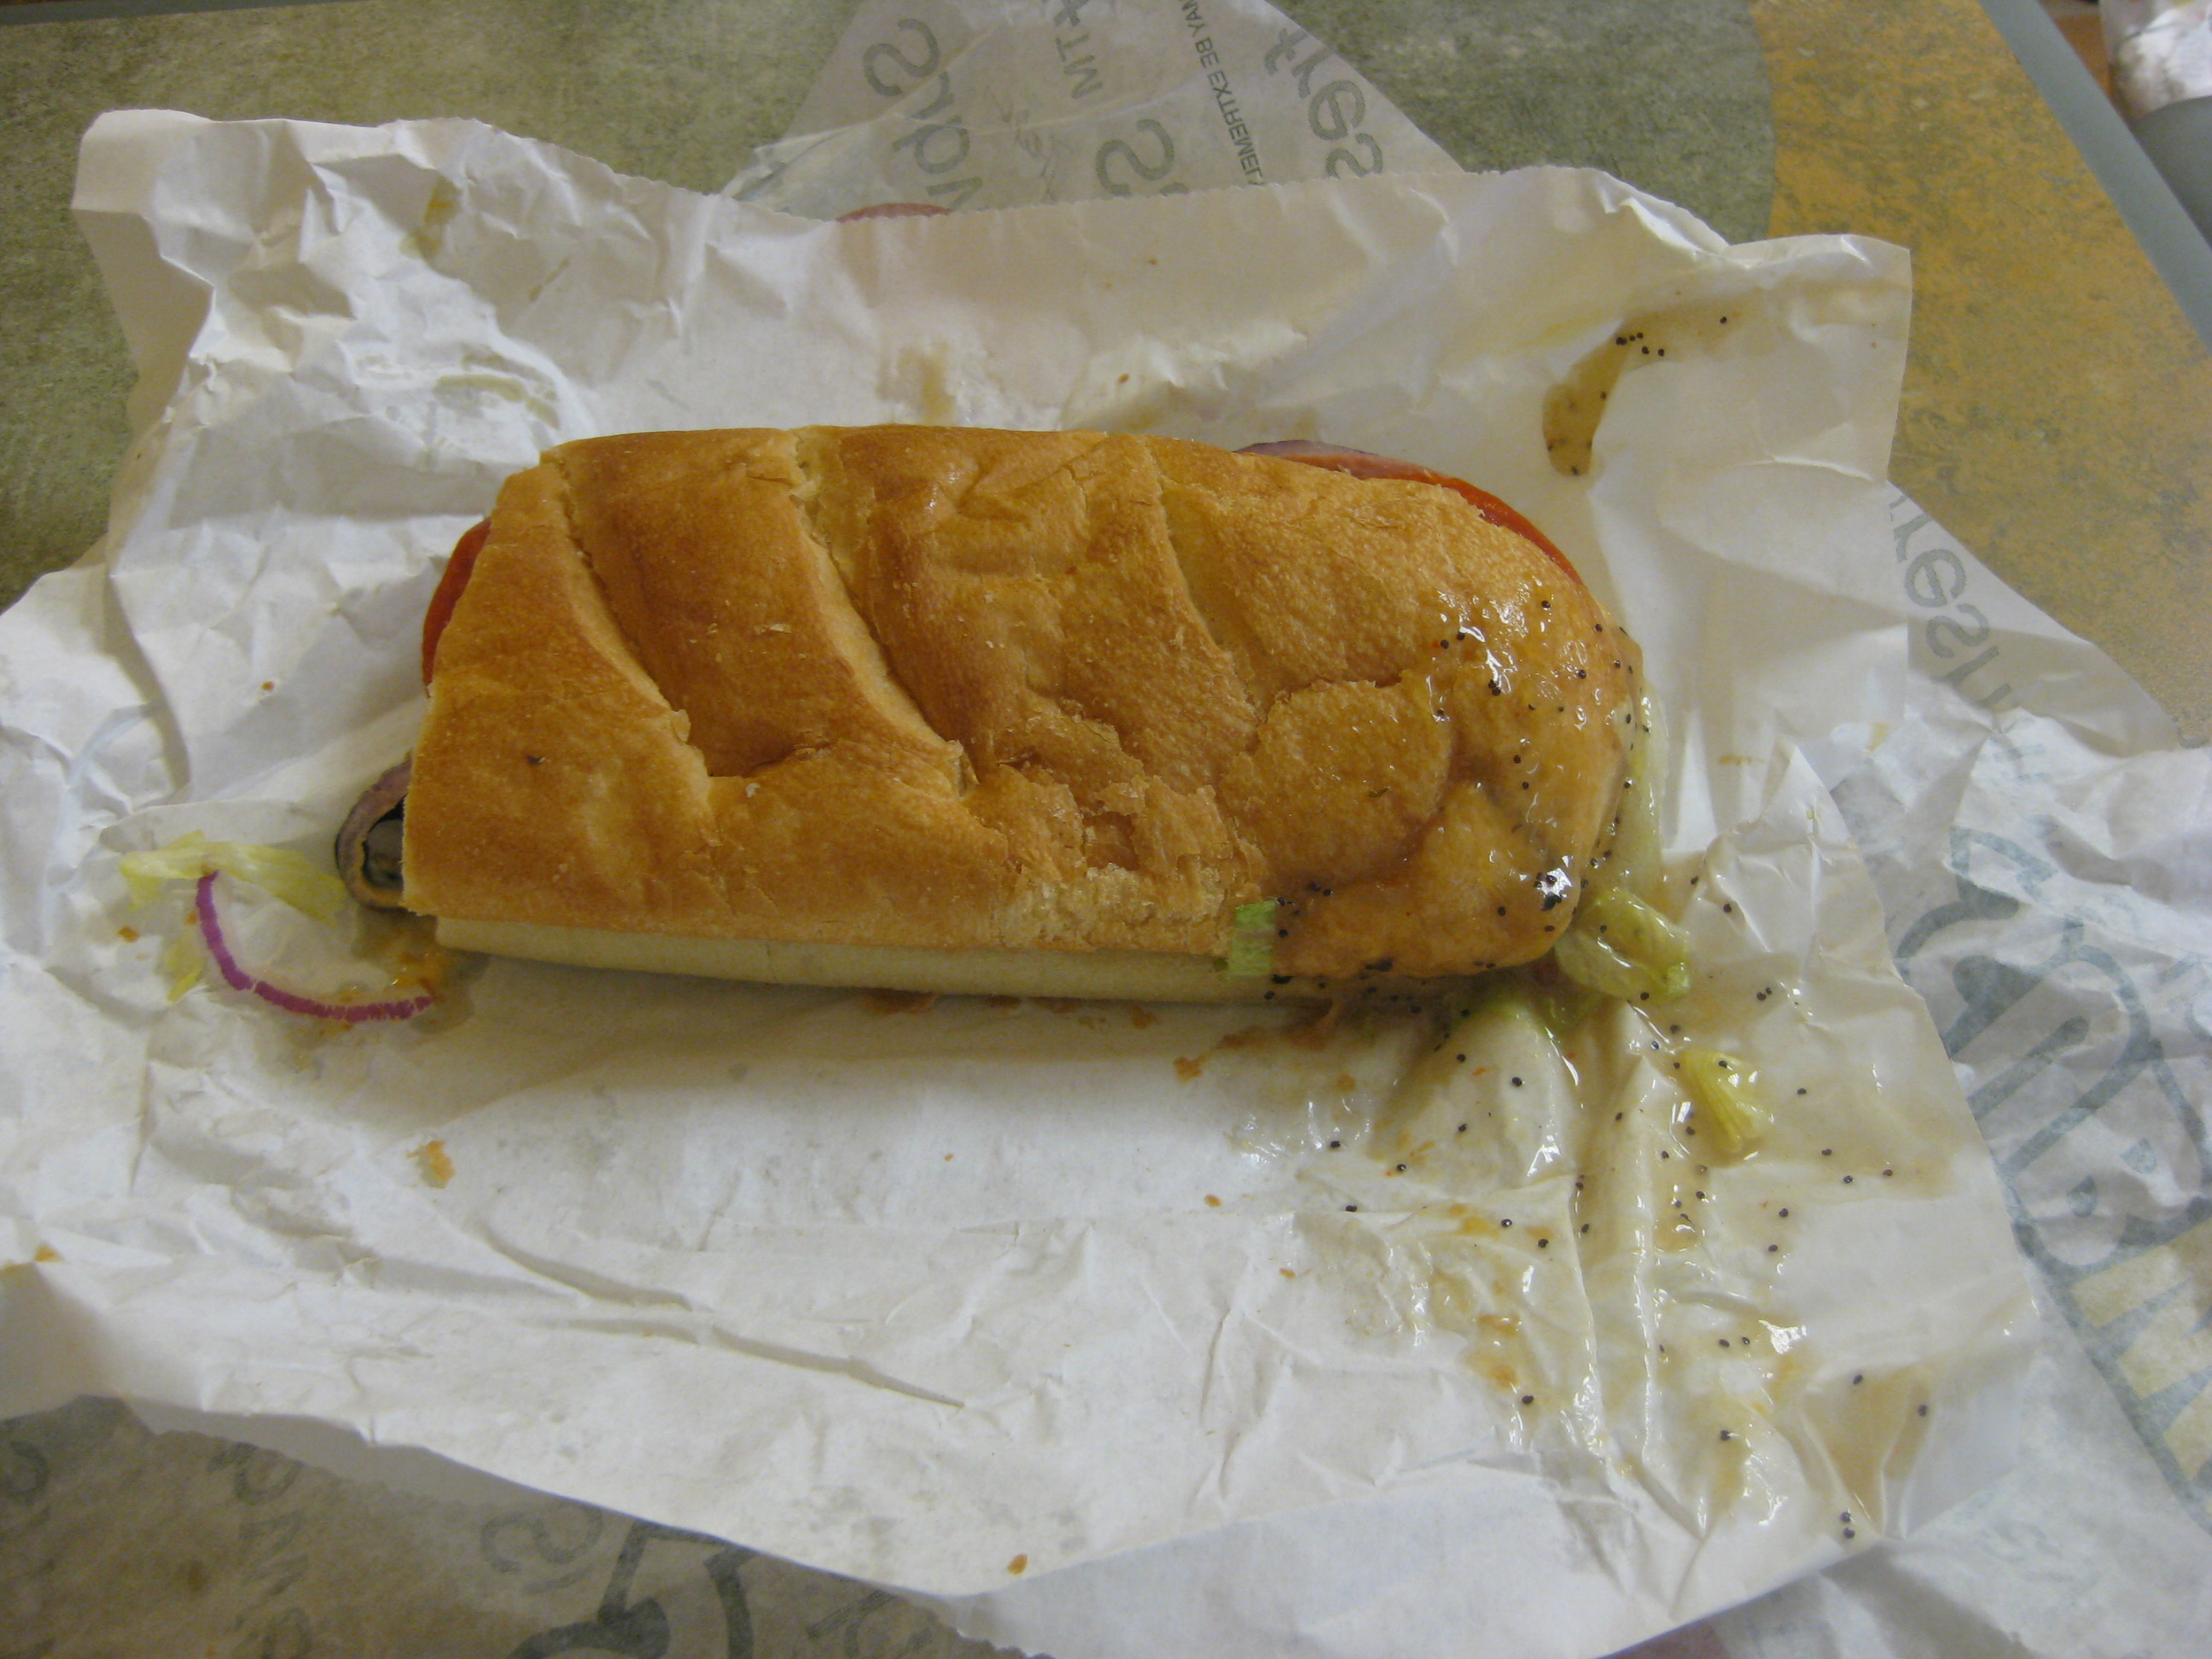sub: (351, 399, 1711, 1041)
